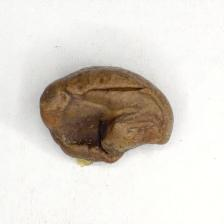NG: (61, 85, 169, 162)
